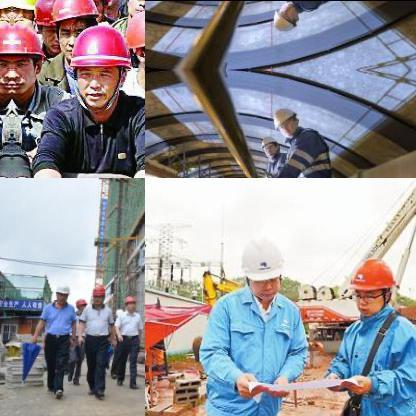Helmet: (68, 24, 124, 106), (237, 231, 290, 303), (342, 252, 398, 314), (50, 0, 99, 62), (11, 18, 41, 102), (29, 0, 68, 54), (124, 9, 144, 79), (271, 3, 301, 32), (0, 18, 10, 102), (271, 104, 301, 132), (68, 0, 108, 18), (10, 0, 36, 25), (260, 131, 284, 157), (90, 282, 106, 306), (54, 281, 68, 303), (92, 0, 123, 9), (121, 293, 135, 311), (0, 0, 10, 25), (72, 297, 86, 311), (260, 0, 284, 6)
